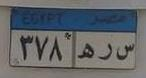3: (19, 33, 34, 62)
7: (35, 35, 48, 62)
8: (48, 33, 64, 64)
haa: (80, 42, 93, 58)
raa: (98, 41, 114, 63)
seen: (117, 42, 134, 61)
